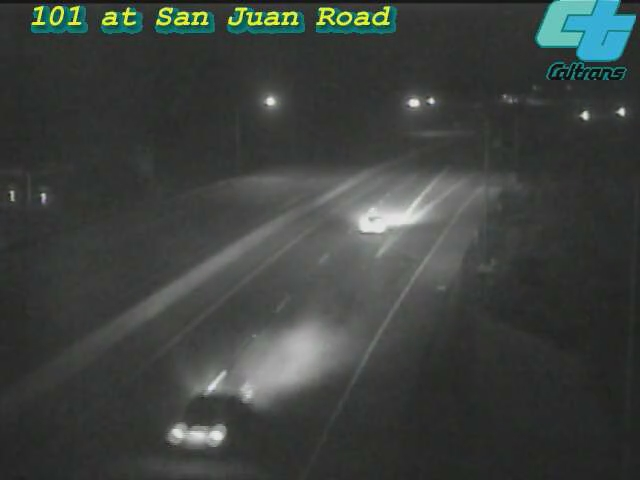vehicle: (149, 366, 259, 476), (333, 181, 413, 261), (559, 91, 609, 141), (595, 87, 640, 137)
